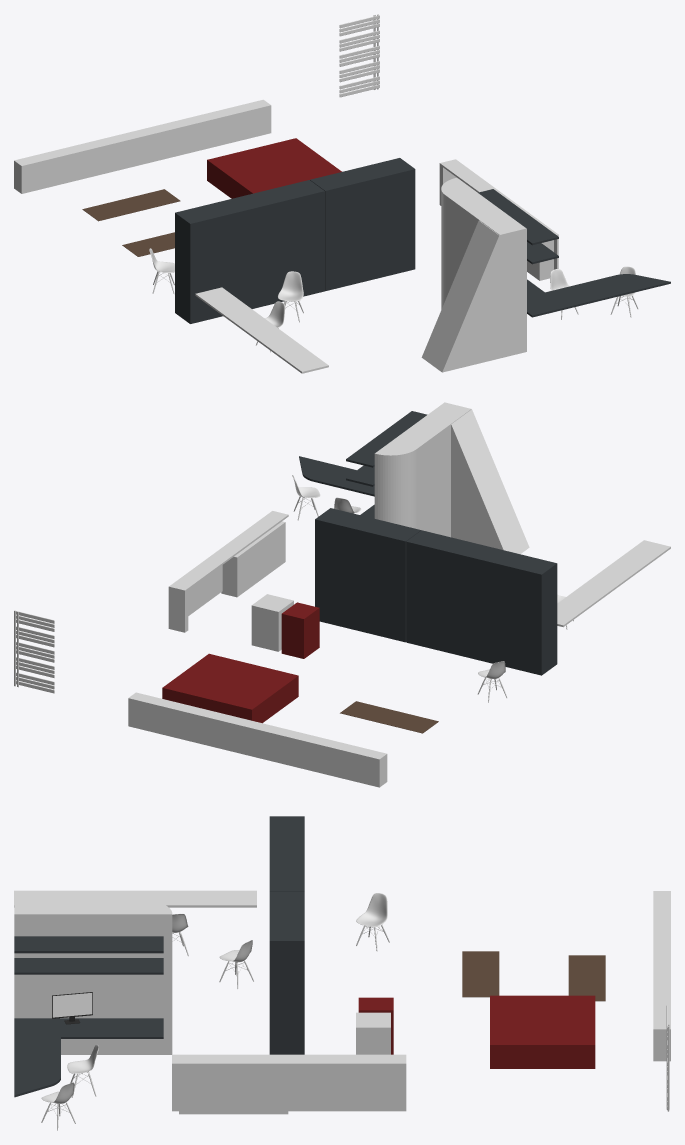
File: OG_Möbel.gltf
3 views of the same model, one above another, from view 1: azimuth 30°, elevation 25°; view 2: azimuth 150°, elevation 25°; view 3: azimuth 270°, elevation 25° (orthographic). The views are drawn at different scales.
Visible parts, largest first — view 1: Curve.054, Kleiderschrank_202.002, Curve.058, _Curve.010, Curve.059, Curve.055, Curve.051, Heizkörper.002, Curve.052, Curve.049, Curve.053, _Curve.014 (+3 smaller); view 2: Curve.054, Kleiderschrank_202.002, Curve.058, _Curve.010, Curve.059, Curve.055, Curve.053, Curve.051, Heizkörper.002, Kleiderschrank_202.006, Kleiderschrank_202.001, Curve.056 (+4 smaller); view 3: Curve.053, _Curve.010, Curve.055, Kleiderschrank_202.002, Curve.051, Curve.059, Curve.058, _Curve.011, Curve.054, _Curve.014, _Curve.012, Curve.052 (+9 smaller).
Boxes of the visible parts, left/top/right/bottom form: Curve.054: left=175, top=180, right=324, bottom=323; Kleiderschrank_202.002: left=310, top=158, right=415, bottom=291; Curve.058: left=14, top=99, right=271, bottom=193; _Curve.010: left=441, top=177, right=526, bottom=358; Curve.059: left=421, top=220, right=526, bottom=372; Curve.055: left=207, top=138, right=341, bottom=198; Curve.051: left=195, top=287, right=328, bottom=373; Heizkörper.002: left=339, top=14, right=379, bottom=97; Curve.052: left=545, top=274, right=670, bottom=309; Curve.049: left=82, top=189, right=180, bottom=221; Curve.053: left=439, top=159, right=558, bottom=269; _Curve.014: left=478, top=189, right=558, bottom=245; Curve.054: left=406, top=530, right=557, bottom=675; Kleiderschrank_202.002: left=315, top=508, right=421, bottom=642; Curve.058: left=128, top=692, right=387, bottom=787; _Curve.010: left=374, top=402, right=471, bottom=537; Curve.059: left=451, top=409, right=529, bottom=554; Curve.055: left=162, top=653, right=298, bottom=723; Curve.053: left=168, top=511, right=288, bottom=632; Curve.051: left=557, top=540, right=670, bottom=627; Heizkörper.002: left=14, top=610, right=54, bottom=693; Kleiderschrank_202.006: left=281, top=602, right=319, bottom=658; Kleiderschrank_202.001: left=251, top=594, right=293, bottom=651; Curve.056: left=221, top=539, right=261, bottom=597; Curve.053: left=172, top=1054, right=406, bottom=1111; _Curve.010: left=14, top=899, right=172, bottom=1054; Curve.055: left=490, top=995, right=595, bottom=1068; Kleiderschrank_202.002: left=269, top=891, right=304, bottom=1054; Curve.051: left=14, top=890, right=256, bottom=907; Curve.059: left=14, top=915, right=60, bottom=1018; Curve.058: left=653, top=891, right=670, bottom=1061; _Curve.011: left=14, top=1018, right=163, bottom=1038; Curve.054: left=269, top=816, right=304, bottom=891; _Curve.014: left=14, top=936, right=163, bottom=953; _Curve.012: left=14, top=958, right=163, bottom=974; Curve.052: left=14, top=1037, right=60, bottom=1097.
Size of the model in its own units: 8.28 by 2.71 by 11.22.
10 materials, 1 textured.
